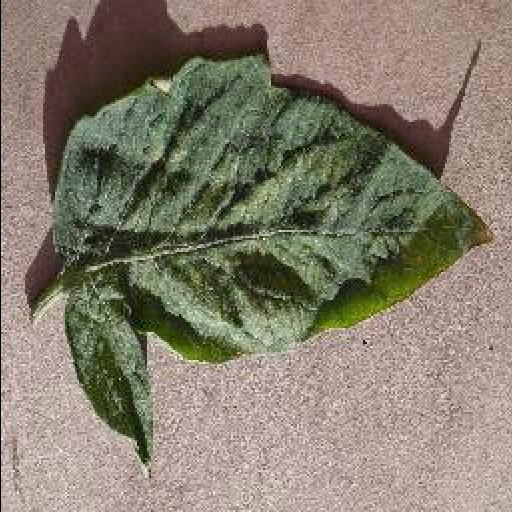disease_tomato: (52, 56, 498, 480)
